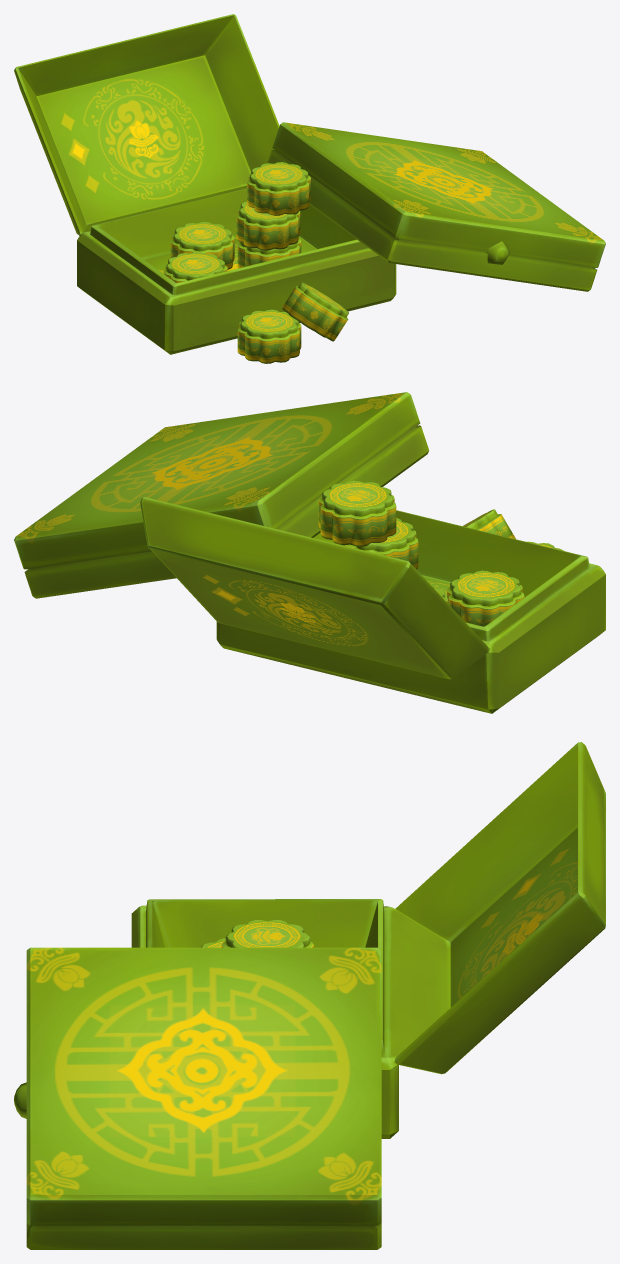
File: banh_H2.fbx
3 views of the same model, one above another, from view 1: azimuth 30°, elevation 25°; view 2: azimuth 150°, elevation 25°; view 3: azimuth 270°, elevation 25° (orthographic). The views are drawn at different scales.
Visible parts, largest first — view 1: hophcn, hopvuong, banhhoa33, banhhoa36, banhhoa35, banhhoa34, banhhoa, banhhoa37, banhhoa32; view 2: hophcn, hopvuong, banhhoa36, banhhoa37, banhhoa35, banhhoa34; view 3: hopvuong, hophcn, banhhoa36.
Part boxes in pixels (box(x1,y1,x2,y2)): hophcn: box(14, 14, 396, 354); hopvuong: box(267, 122, 605, 291); banhhoa33: box(237, 309, 301, 363); banhhoa36: box(247, 162, 310, 215); banhhoa35: box(236, 202, 300, 250); banhhoa34: box(282, 282, 348, 341); banhhoa: box(170, 222, 234, 269); banhhoa37: box(163, 252, 227, 282); banhhoa32: box(237, 239, 301, 268); hophcn: box(140, 497, 605, 713); hopvuong: box(14, 392, 429, 598); banhhoa36: box(318, 480, 396, 546); banhhoa37: box(447, 570, 524, 626); banhhoa35: box(344, 518, 418, 569); banhhoa34: box(463, 509, 515, 539); hopvuong: box(14, 947, 381, 1249); hophcn: box(131, 742, 605, 1138); banhhoa36: box(221, 920, 313, 947).
Bounding box in the file's own units: 961 × 398 × 865.
